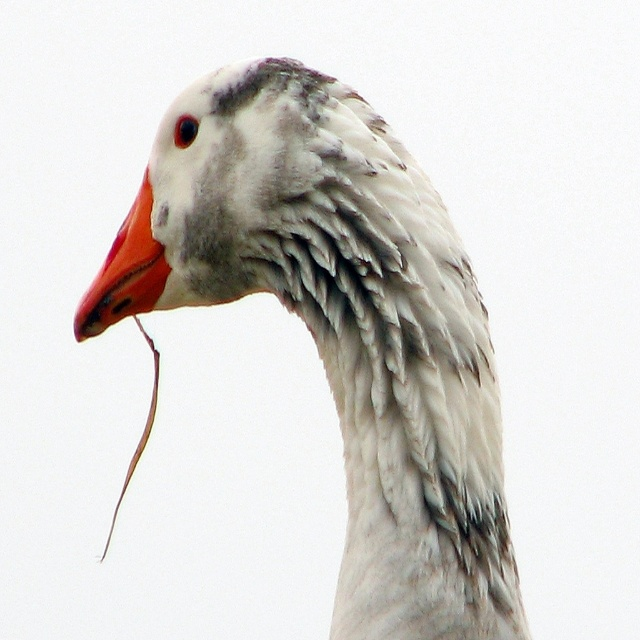Goose: (73, 52, 525, 637)
